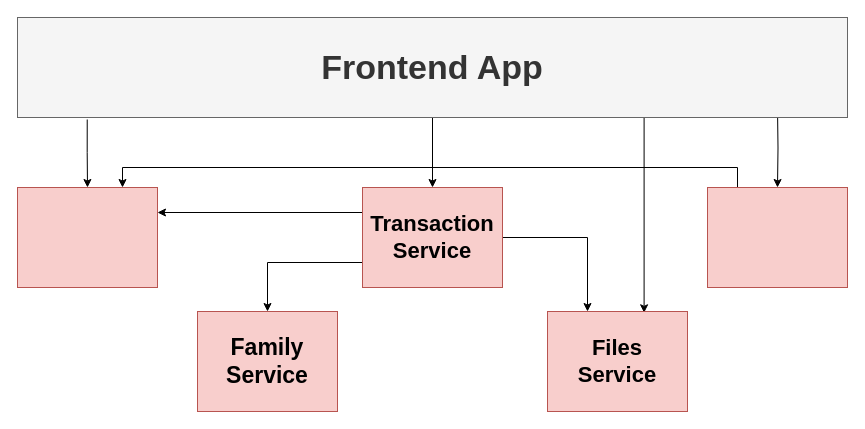
Some shapes in this 865 by 429 pixel diagram are drawn without their labels. Each missing label, with the centre of its shape:
"Auth Service" goes at [777,237].
"User Service" goes at [87,237].
